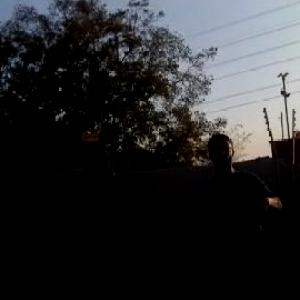follow: (194, 125, 294, 299)
